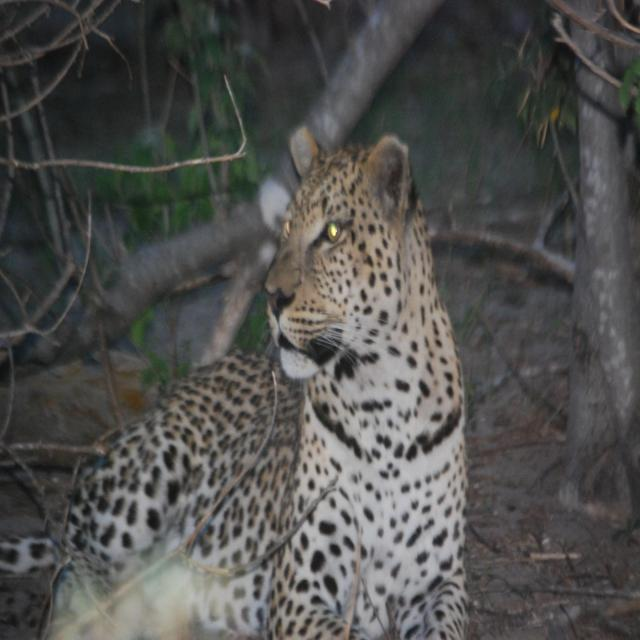Leopard: (22, 158, 478, 640)
